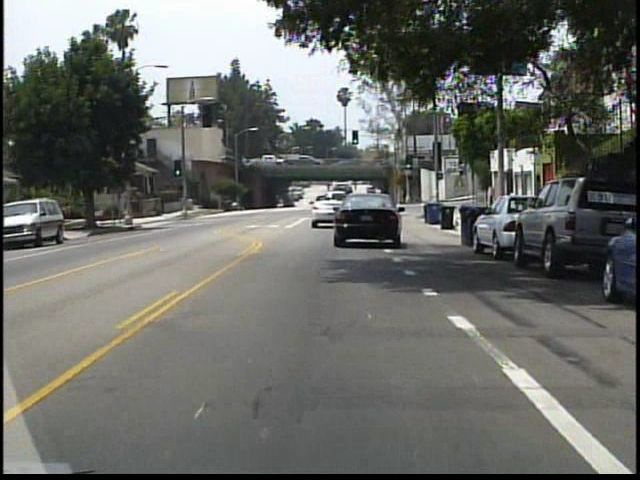person: (65, 201, 78, 231)
